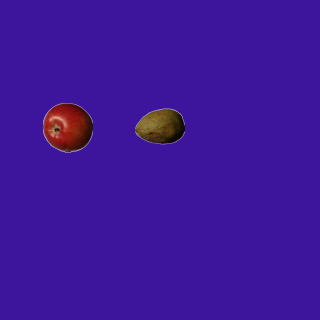Apple Braeburn: (42, 102, 92, 152)
Papaya: (134, 101, 184, 151)
